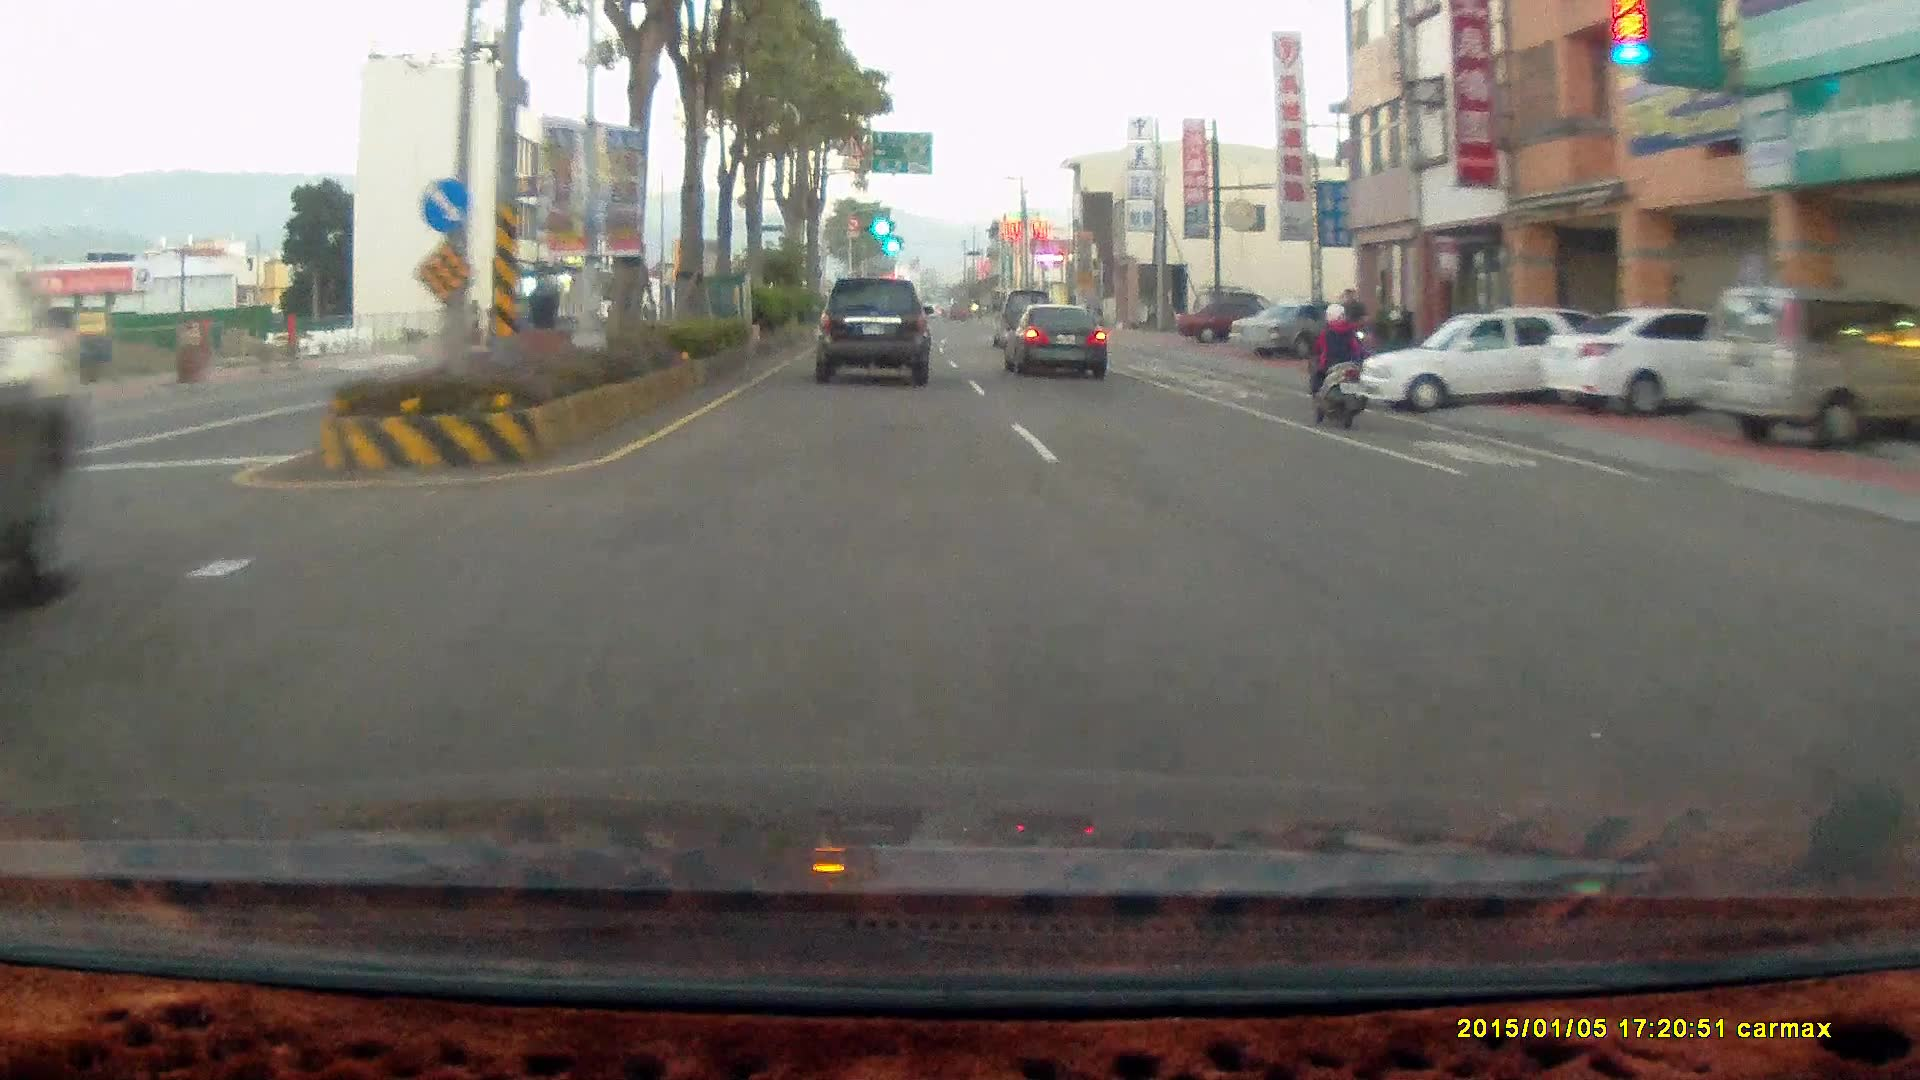rider: (1294, 290, 1386, 435), (1301, 302, 1367, 431)
vehicle: (1698, 286, 1920, 456), (1, 242, 90, 618), (1538, 305, 1786, 418), (1357, 305, 1629, 408), (1357, 308, 1597, 412), (1535, 309, 1748, 422), (810, 276, 939, 386), (812, 276, 933, 386), (1230, 300, 1370, 360), (1230, 298, 1370, 358), (1002, 301, 1106, 379), (1007, 307, 1112, 384), (1177, 300, 1294, 344), (991, 289, 1054, 347)
